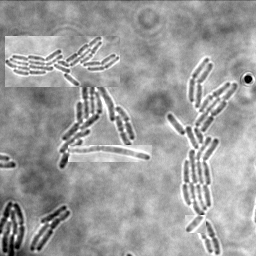Dividing: (68, 145, 152, 162), (204, 219, 222, 255), (199, 223, 215, 253)
Microcolony: (167, 57, 238, 216), (59, 75, 136, 169), (5, 36, 120, 87), (30, 204, 72, 251), (1, 200, 26, 255)
Rod: (185, 215, 206, 233)
